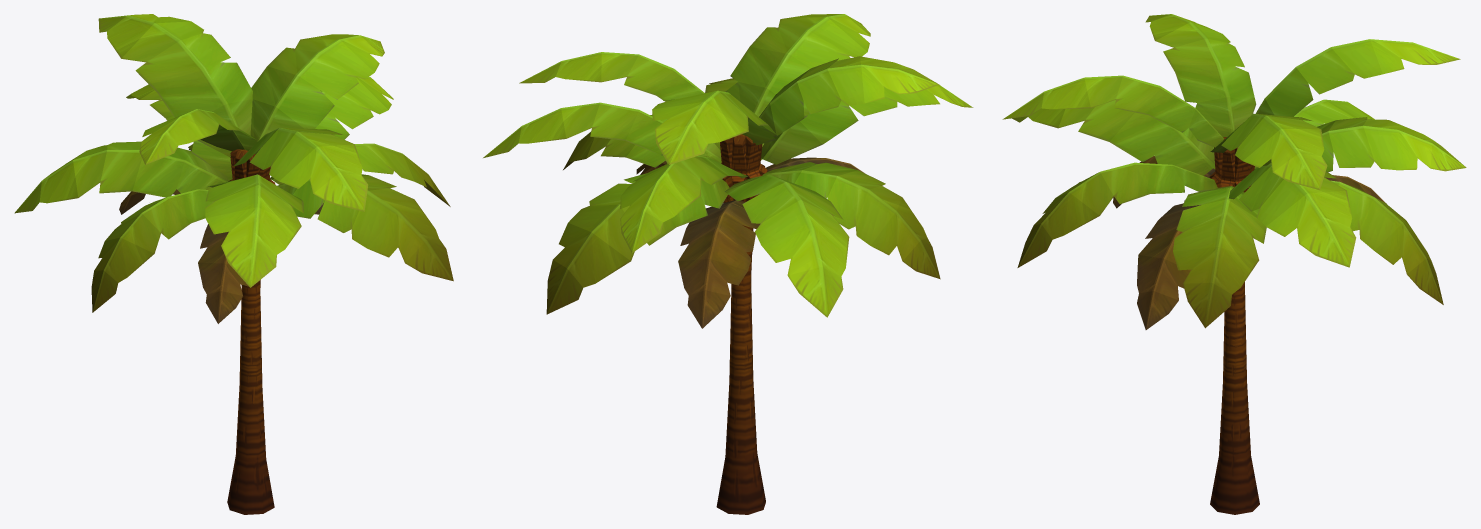
The model's file is CoconutTree.FBX.
3 views of the same model, side by side, from view 1: azimuth 30°, elevation 25°; view 2: azimuth 150°, elevation 25°; view 3: azimuth 270°, elevation 25° (orthographic). The views are drawn at different scales.
Visible parts, largest first — view 1: Foliage, Trunk; view 2: Foliage, Trunk; view 3: Foliage, Trunk.
Boxes of the visible parts, x1,y1,x2,y2 form: Foliage: (14,14,453,323); Trunk: (227,149,275,514); Foliage: (483,14,973,328); Trunk: (716,134,767,514); Foliage: (1002,14,1466,329); Trunk: (1209,137,1259,514).
Bounding box in the file's own units: 0.0435 × 0.0501 × 0.0469.
1 material, 1 textured.
